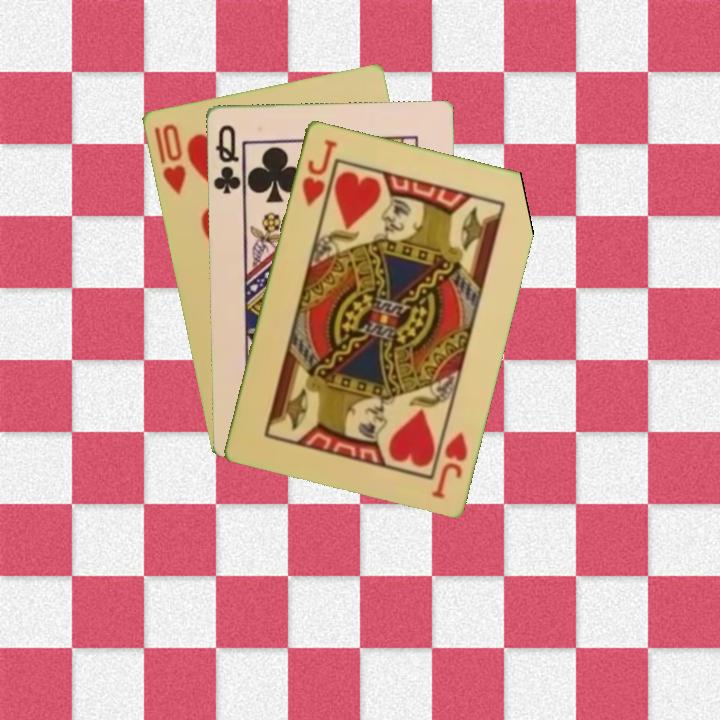10h: (150, 120, 189, 197)
Jh: (428, 427, 471, 501), (298, 135, 340, 209)
Qc: (209, 120, 245, 198)
